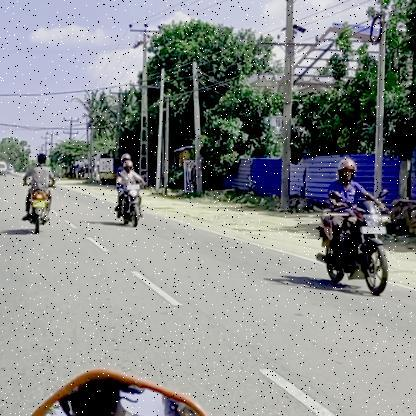motorcycle: (312, 200, 394, 298), (112, 182, 148, 230), (19, 188, 54, 236)
